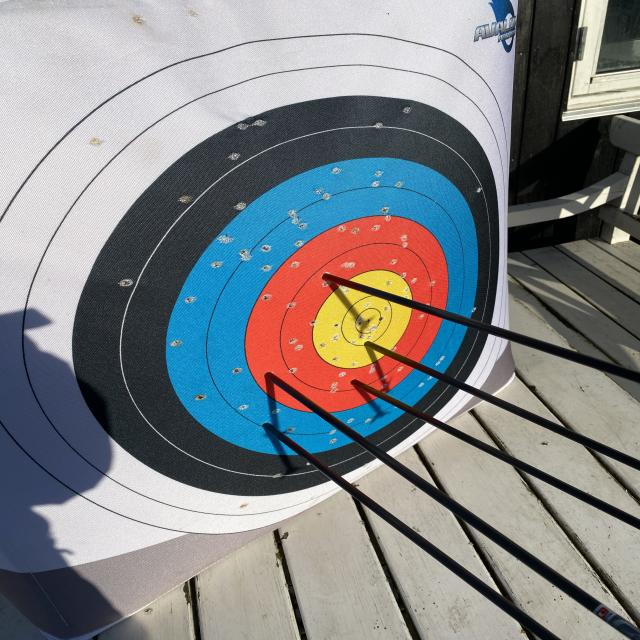Arrow_Blue: (242, 402, 298, 440)
Arrow_Red: (338, 366, 382, 401), (303, 264, 349, 292), (253, 359, 298, 386)
Arrow_Yellow: (353, 335, 400, 361)
